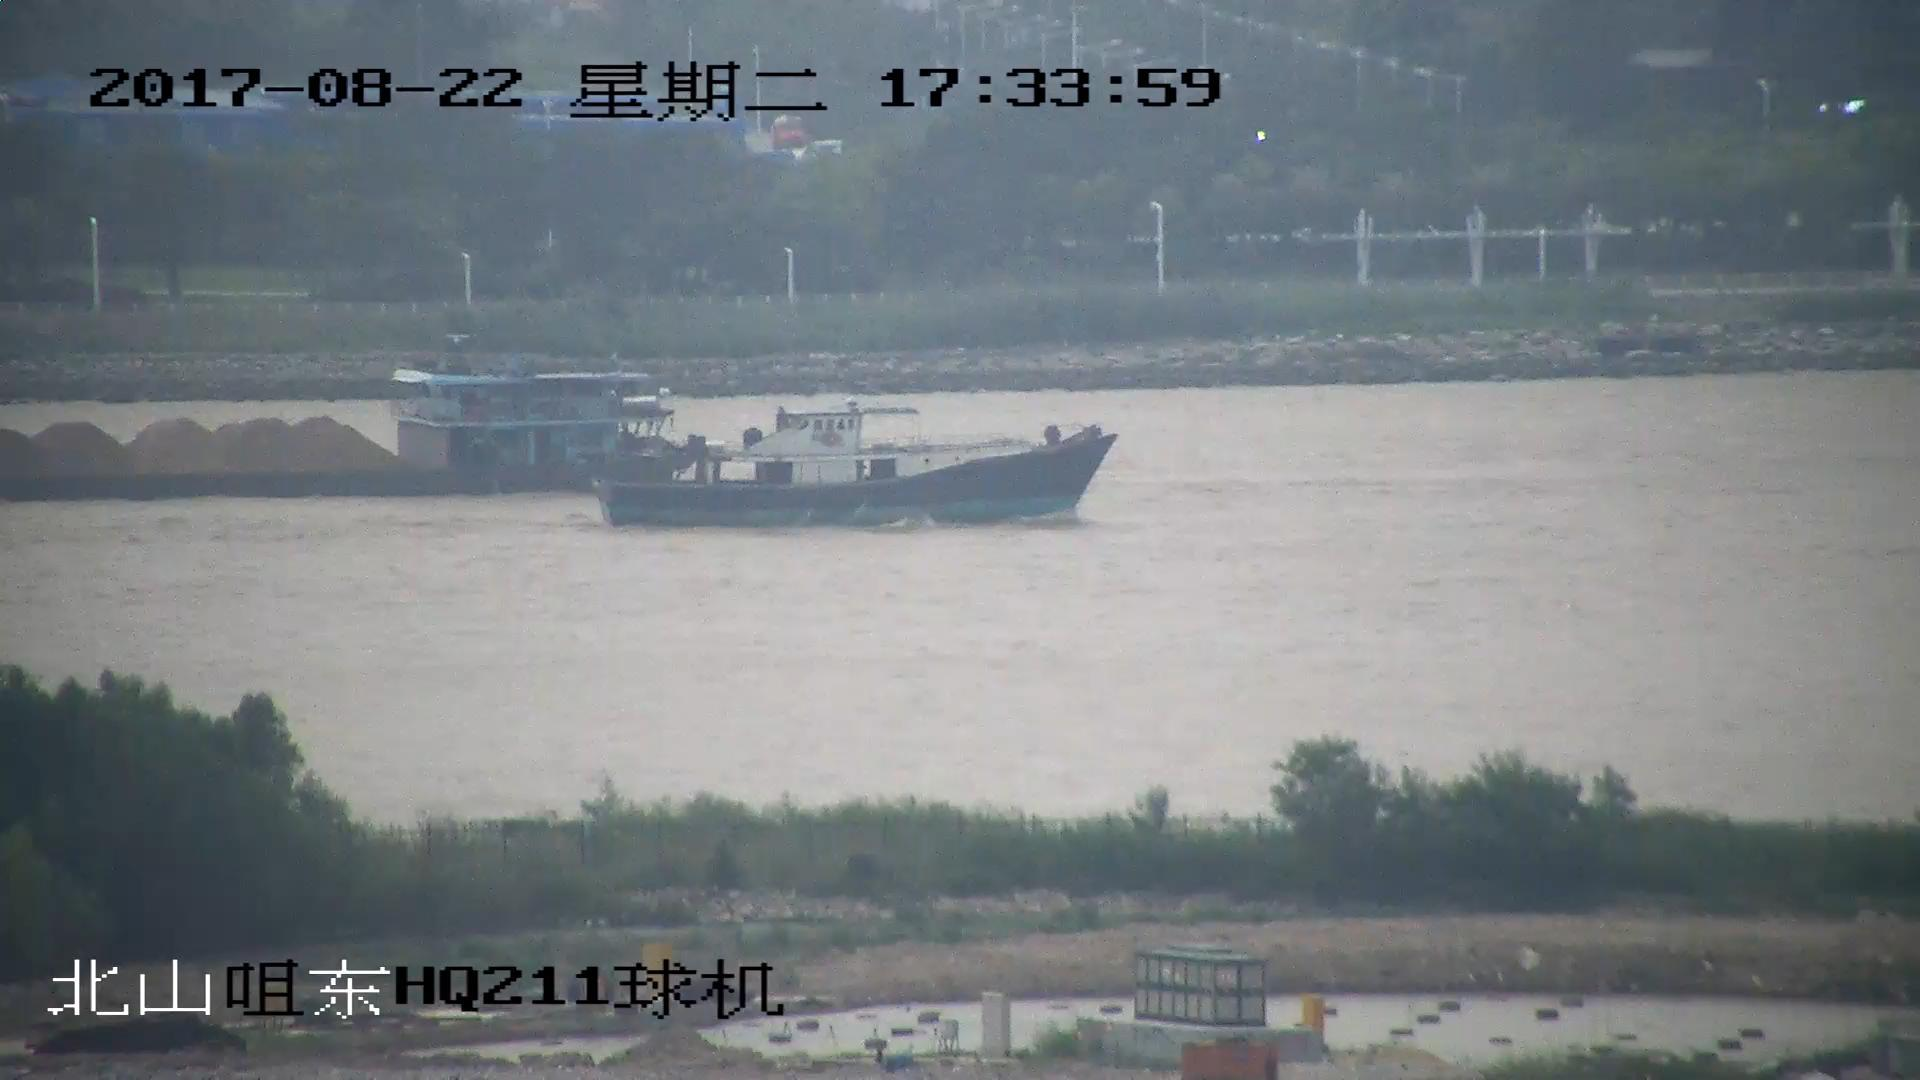Ship: (3, 342, 679, 495), (597, 400, 1120, 534)
